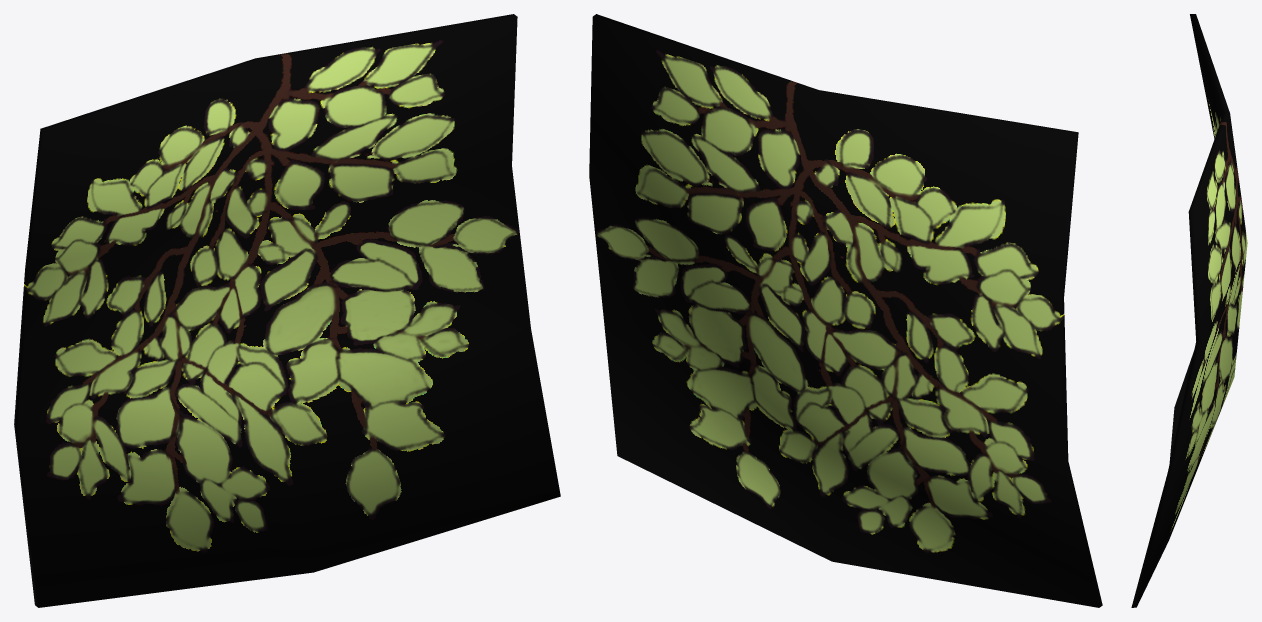
File: Birch tree leaves mesh.fbx
3 views of the same model, side by side, from view 1: azimuth 30°, elevation 25°; view 2: azimuth 150°, elevation 25°; view 3: azimuth 270°, elevation 25° (orthographic). The views are drawn at different scales.
Parts seen in each view (by area): view 1: birch leaves texture; view 2: birch leaves texture; view 3: birch leaves texture.
Part boxes in pixels (<box>): birch leaves texture: <box>14,14,560,607</box>; birch leaves texture: <box>589,14,1102,607</box>; birch leaves texture: <box>1131,14,1247,607</box>.
Bounding box in the file's own units: 42.03 × 39.7 × 9.93.
